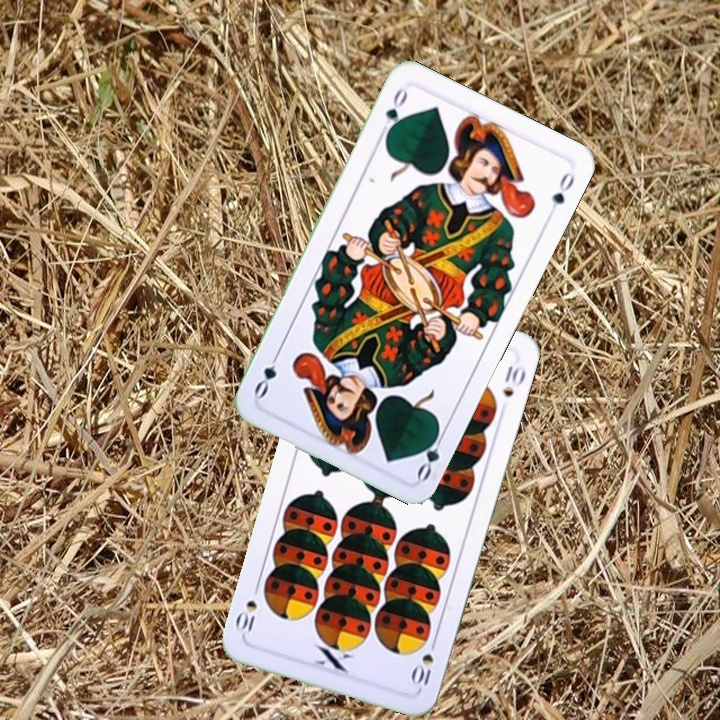GO: (412, 424, 449, 483), (375, 84, 410, 140)
S10: (408, 634, 440, 692)
